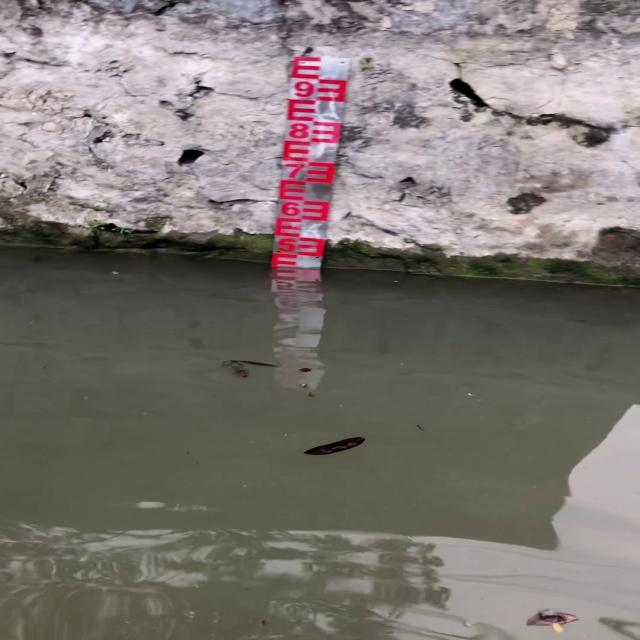ruler: (271, 50, 352, 277)
value: (290, 77, 317, 101), (272, 233, 299, 255), (285, 120, 311, 142), (280, 161, 307, 182), (278, 198, 302, 220)
